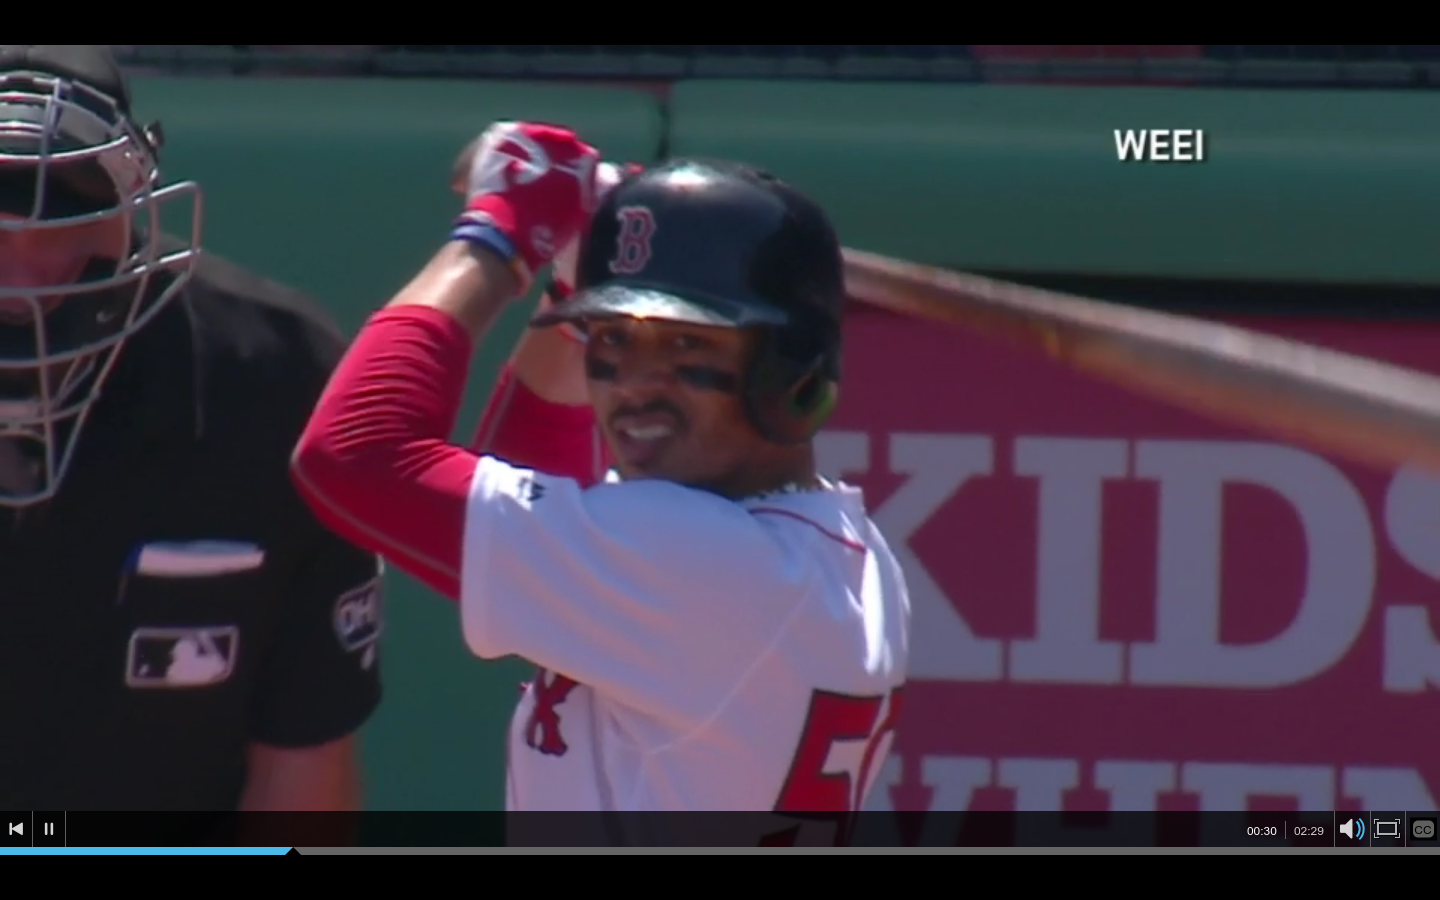baseball bat: (453, 123, 1427, 454)
baseball player: (284, 112, 910, 812)
referee: (1, 59, 376, 817)
